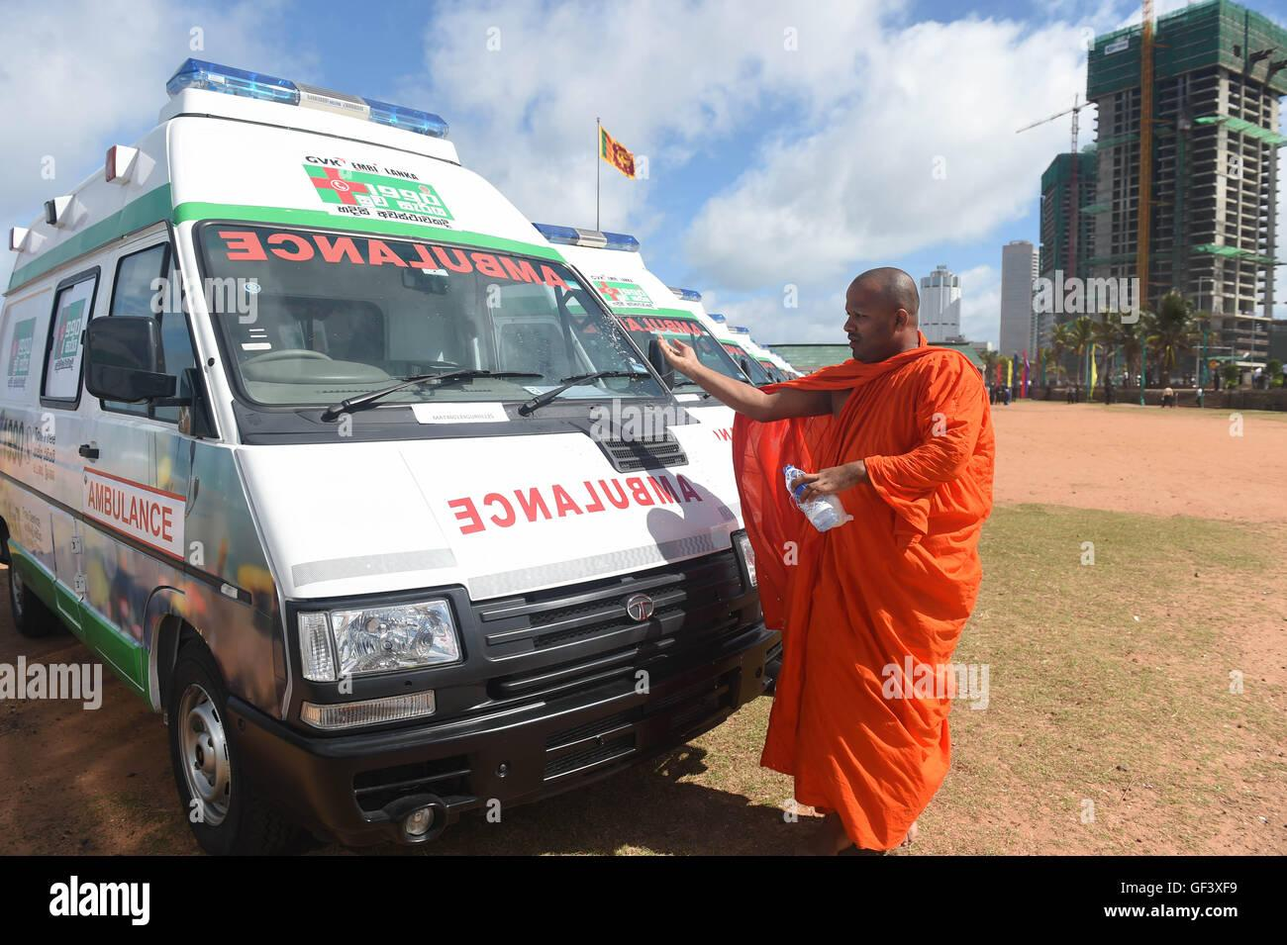Emergency-Vehicles: (0, 76, 781, 877), (429, 161, 840, 618)
